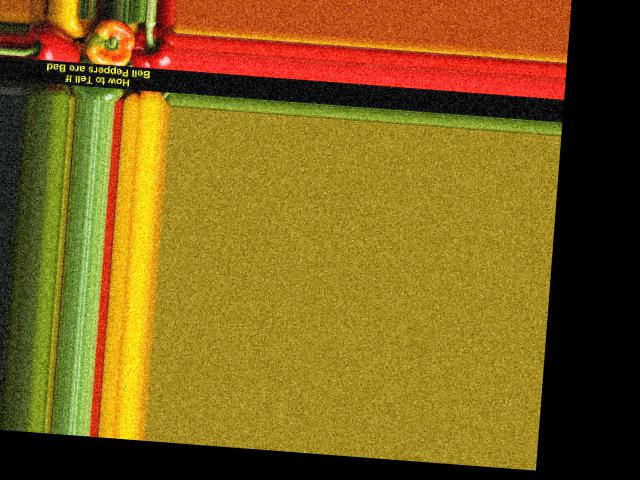bell_pepper: (127, 20, 174, 72)
